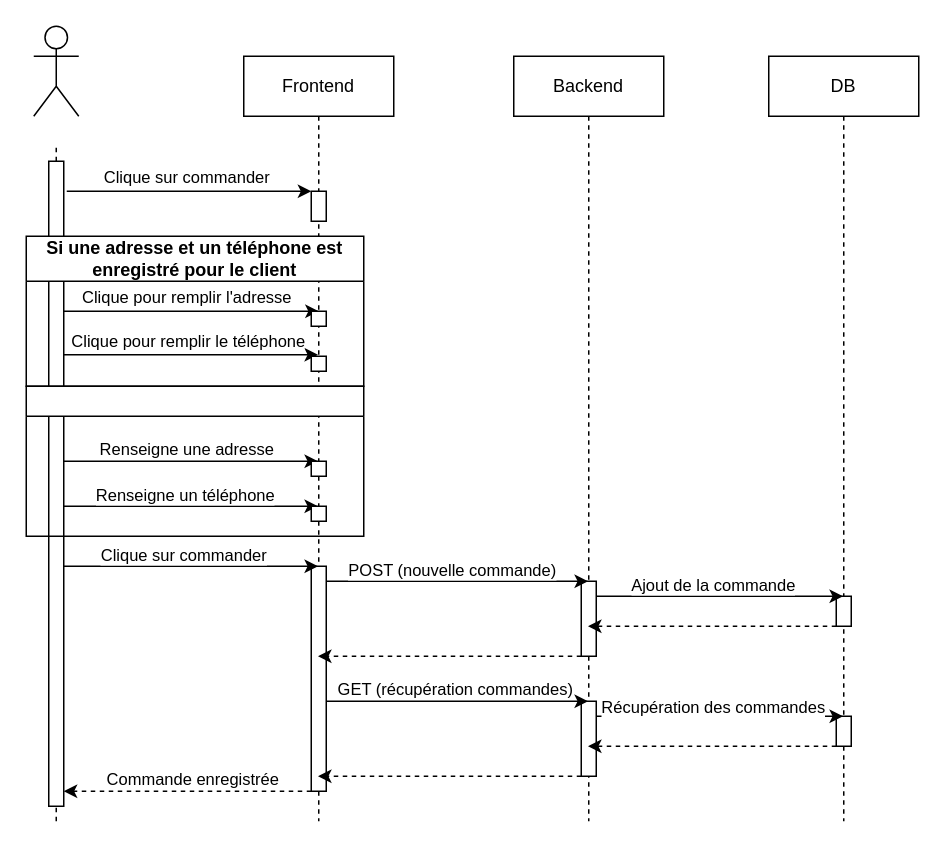
The diagram is 945 pixels wide and 849 high, and some of its shapes have lost their labels. Here are the shapes that lost their labels. From the top down, the centre of each, then its label:
the point at 55,70: Client
the point at 194,460: Sinon
